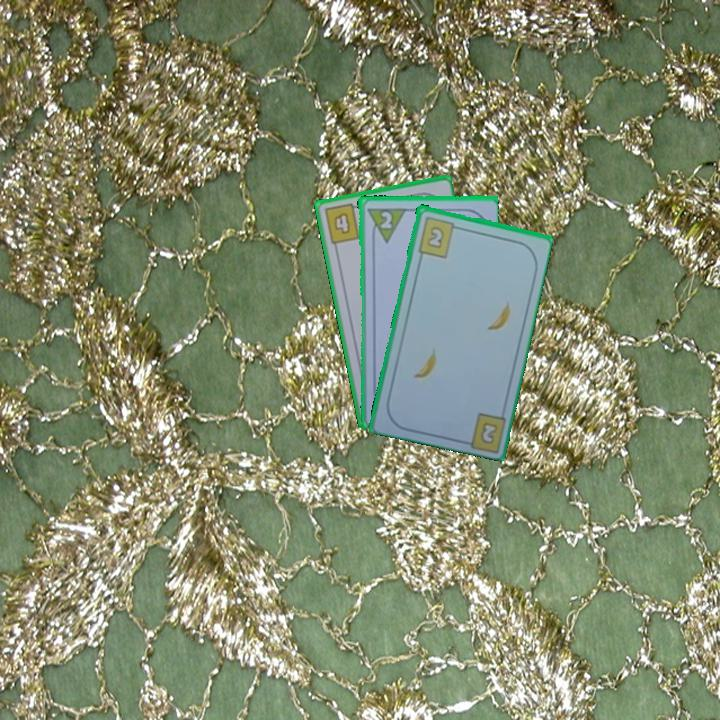2b: (414, 213, 462, 260), (477, 418, 500, 447)
2p: (377, 207, 395, 231)
4b: (320, 200, 364, 247)
